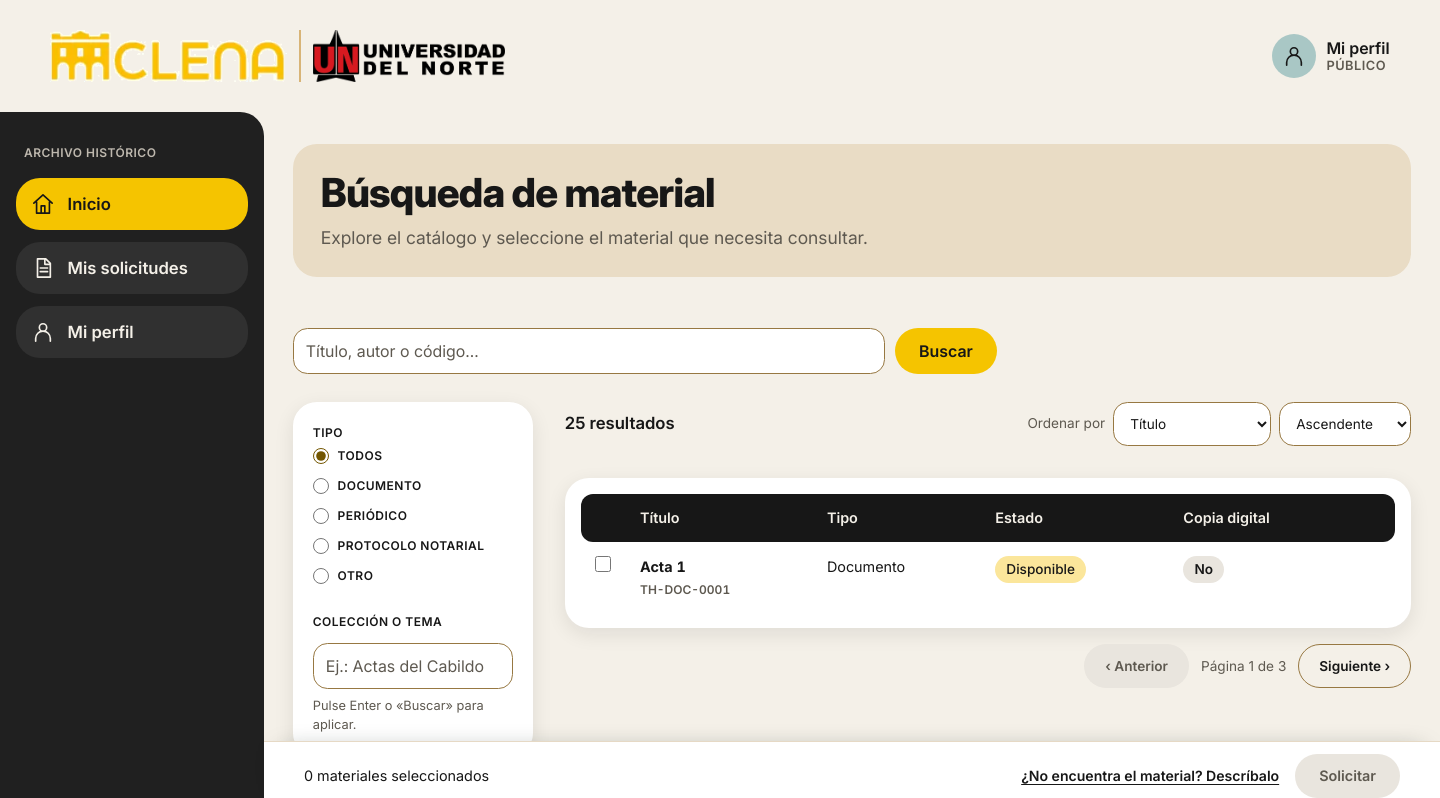
Test: MaterialSearchPage › moves between pages
Check: the text "Página 1 de 3" is shown, box x1=1201 y1=656 x2=1286 y2=676
Check: the button "‹ Anterior" is disabled, box x1=1084 y1=644 x2=1189 y2=688
Click the button "Siguiente ›" at (1355, 666), box x1=1298 y1=644 x2=1411 y2=688
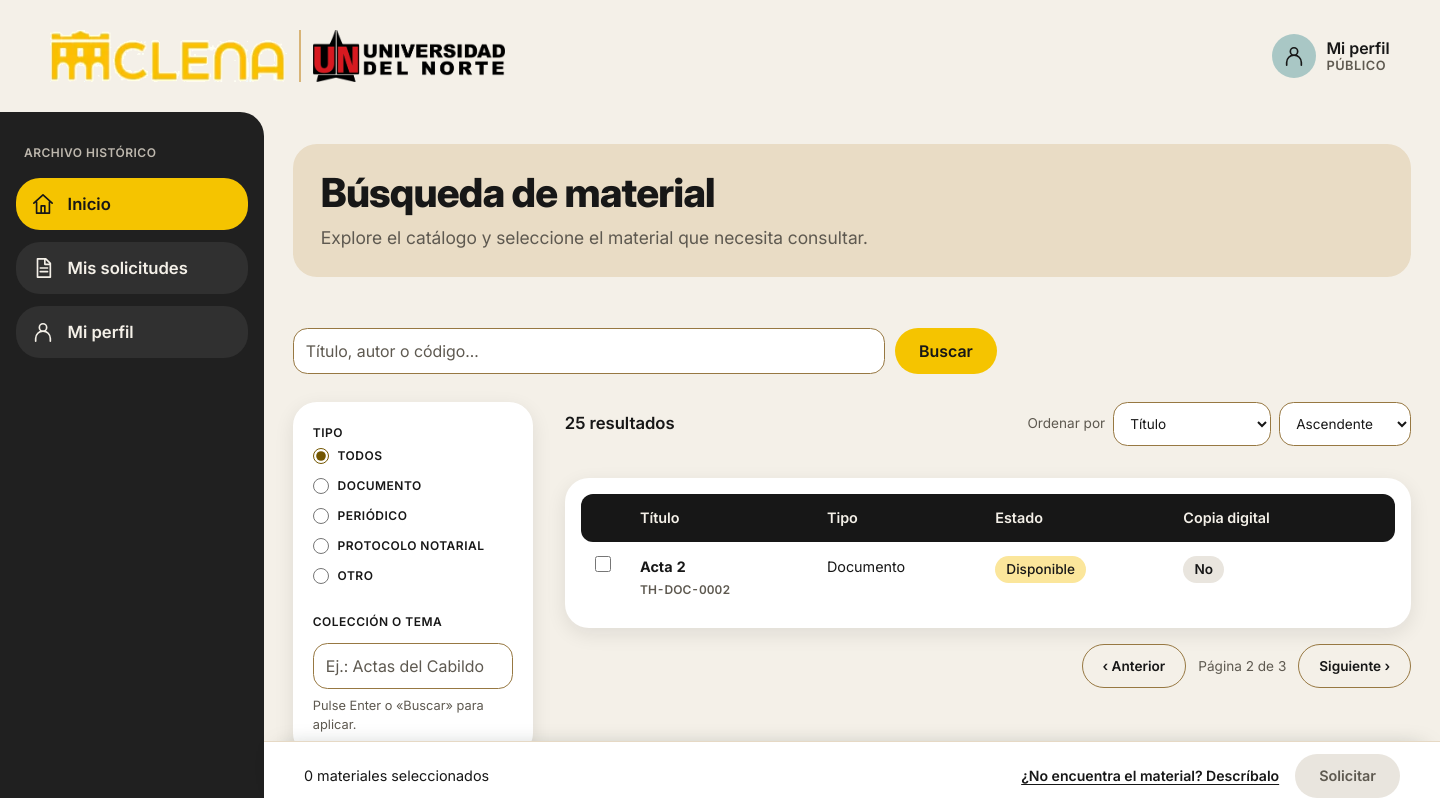
Check: the text "Acta 2" is shown, box x1=640 y1=558 x2=686 y2=575
